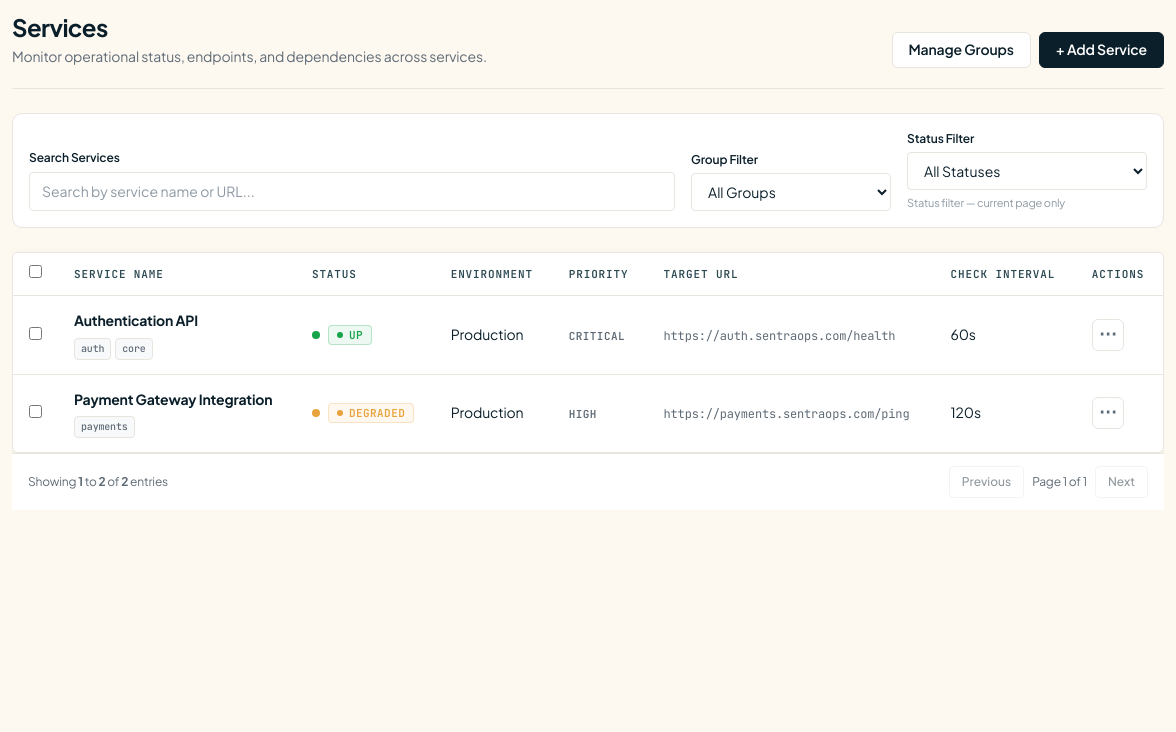
Phase 4 — Services & Groups Integration & Compliance › Services List & Detail Page Integration › renders Services list and allows searching
The image size is (1176, 732).
Check: the link "Authentication API" is shown, box [74,311,198,329]
Type "Payment" into the search field labelled "Search Services" at (352, 191), box [29,172,675,211]
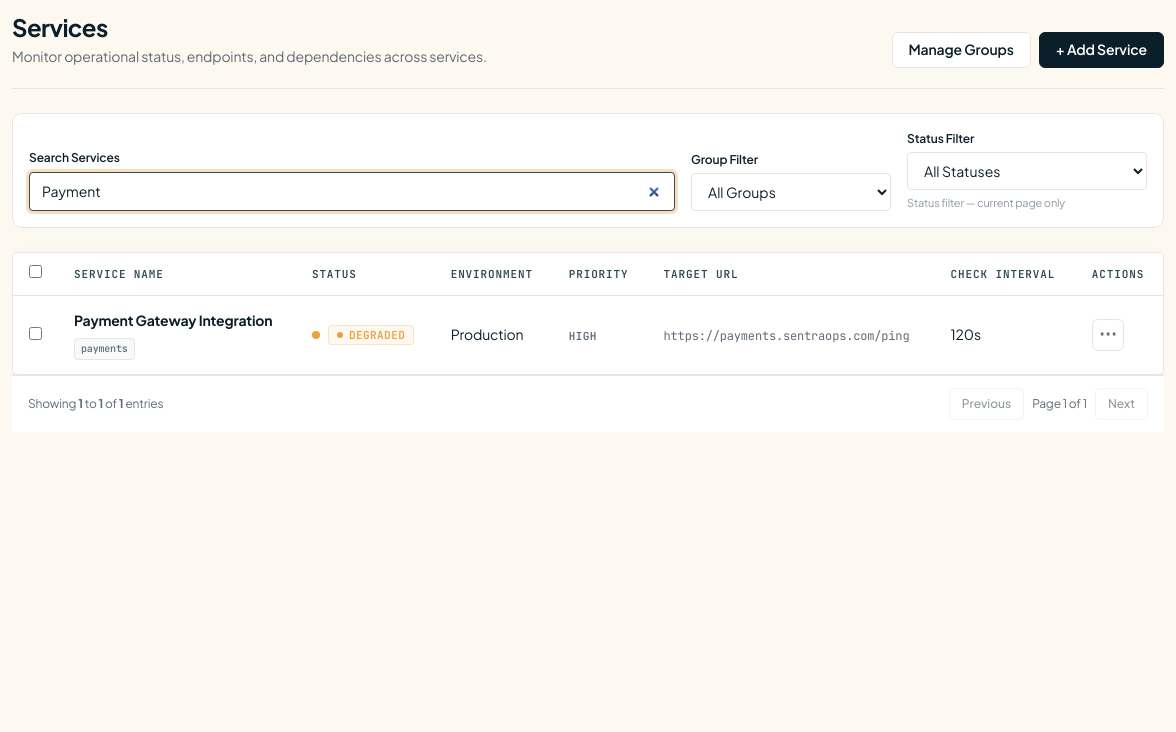
Check: the link "Payment Gateway Integration" is shown, box [74,311,272,329]
Check: the link "Authentication API" is gone
